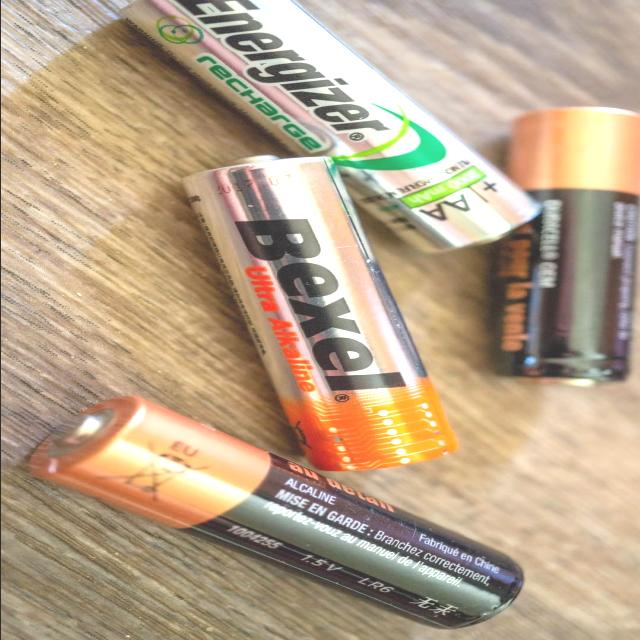AA: (20, 393, 526, 633), (110, 0, 546, 257), (172, 154, 465, 472), (482, 105, 640, 389)
